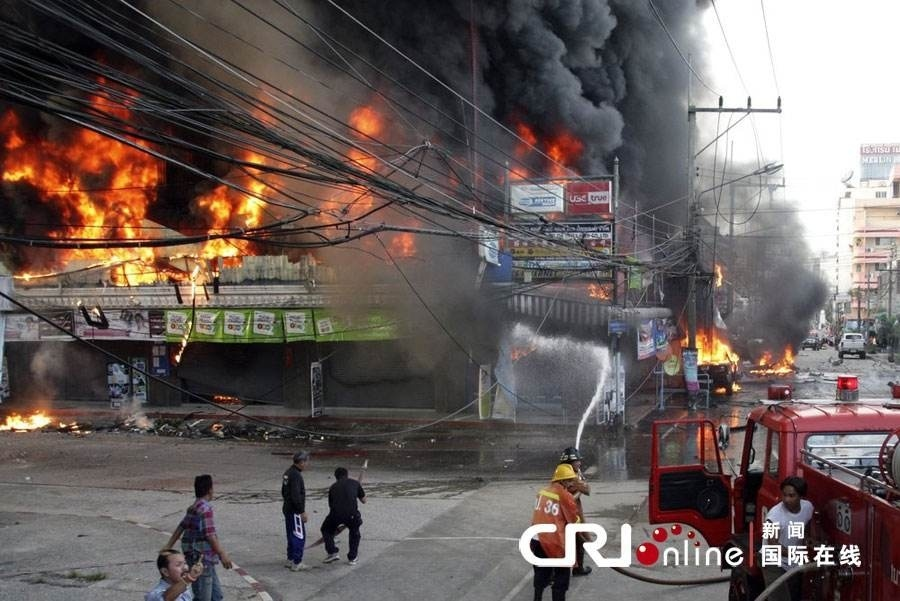fire: (0, 100, 432, 296), (681, 323, 796, 380), (507, 127, 585, 181), (0, 403, 63, 436), (588, 279, 612, 298), (710, 260, 725, 286)
